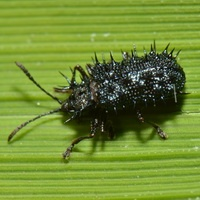insect: (8, 40, 185, 158)
